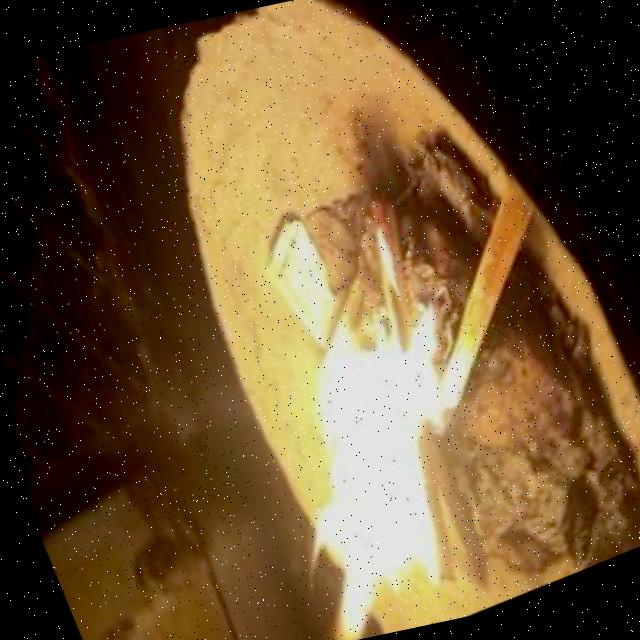fire: (246, 223, 494, 640)
